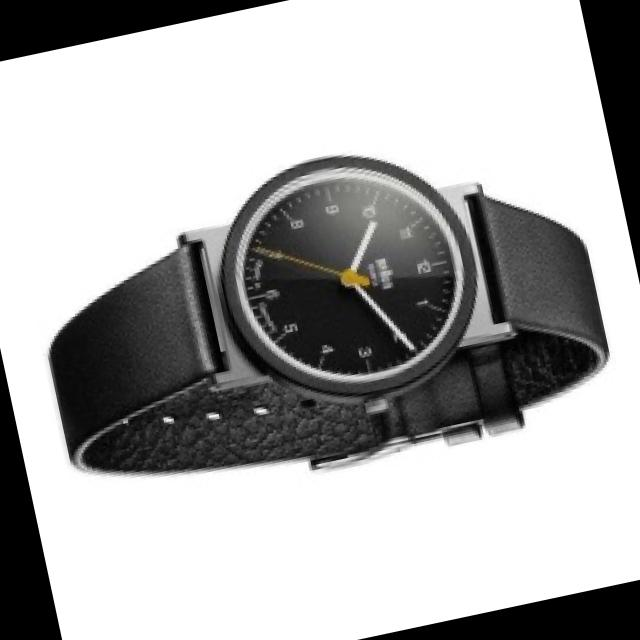saat: (9, 97, 634, 546)
